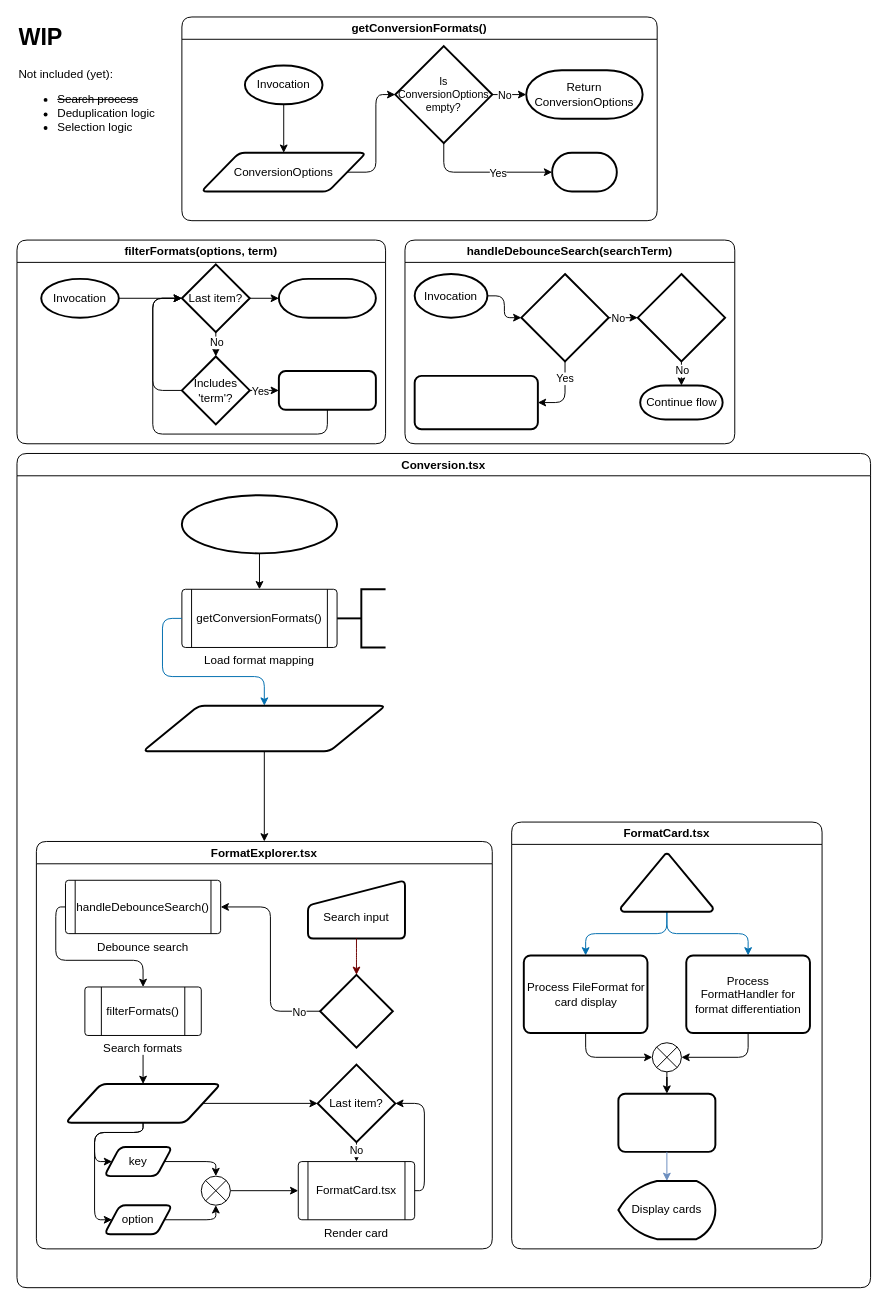
This 888x1305 diagram has some shape labels left out. Here are the shapes that lost their labels. From the top down, the centre of each, then its label:
pixel 584 171: Throw
pixel 326 297: Return filteredFormats
pixel 564 317: searchTerm === "" ?
pixel 681 317: Within debounce duration?
pixel 326 390: Add to filteredFormats
pixel 475 402: Set searchResultsIndex to initial (reset)
pixel 259 524: Open Conversion page
pixel 361 618: type ConversionOptionsMap
pixel 264 728: AvailableConversionOptions
pixel 666 882: Unpack
pixel 356 1010: Empty?
pixel 142 1103: searchResultsIndex
pixel 666 1122: Compile to card
